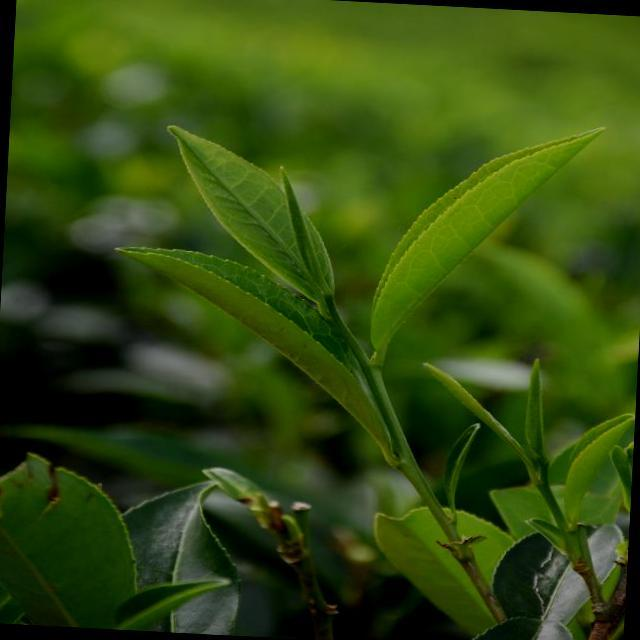Stem: (536, 482, 553, 497), (324, 295, 336, 309)
